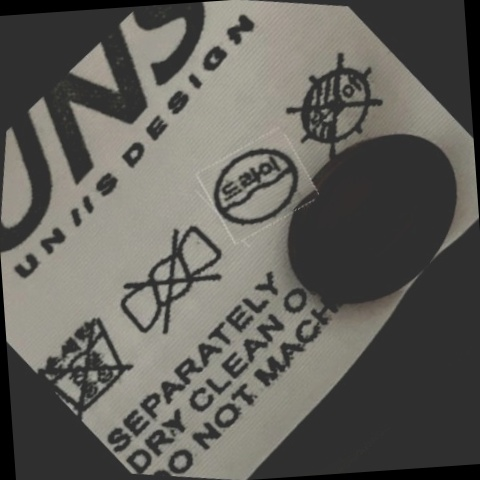DN_dry: (280, 51, 390, 162)
DN_wring: (110, 222, 233, 345)
dry_clean: (208, 136, 307, 238)
hand_wash: (37, 305, 141, 417)
